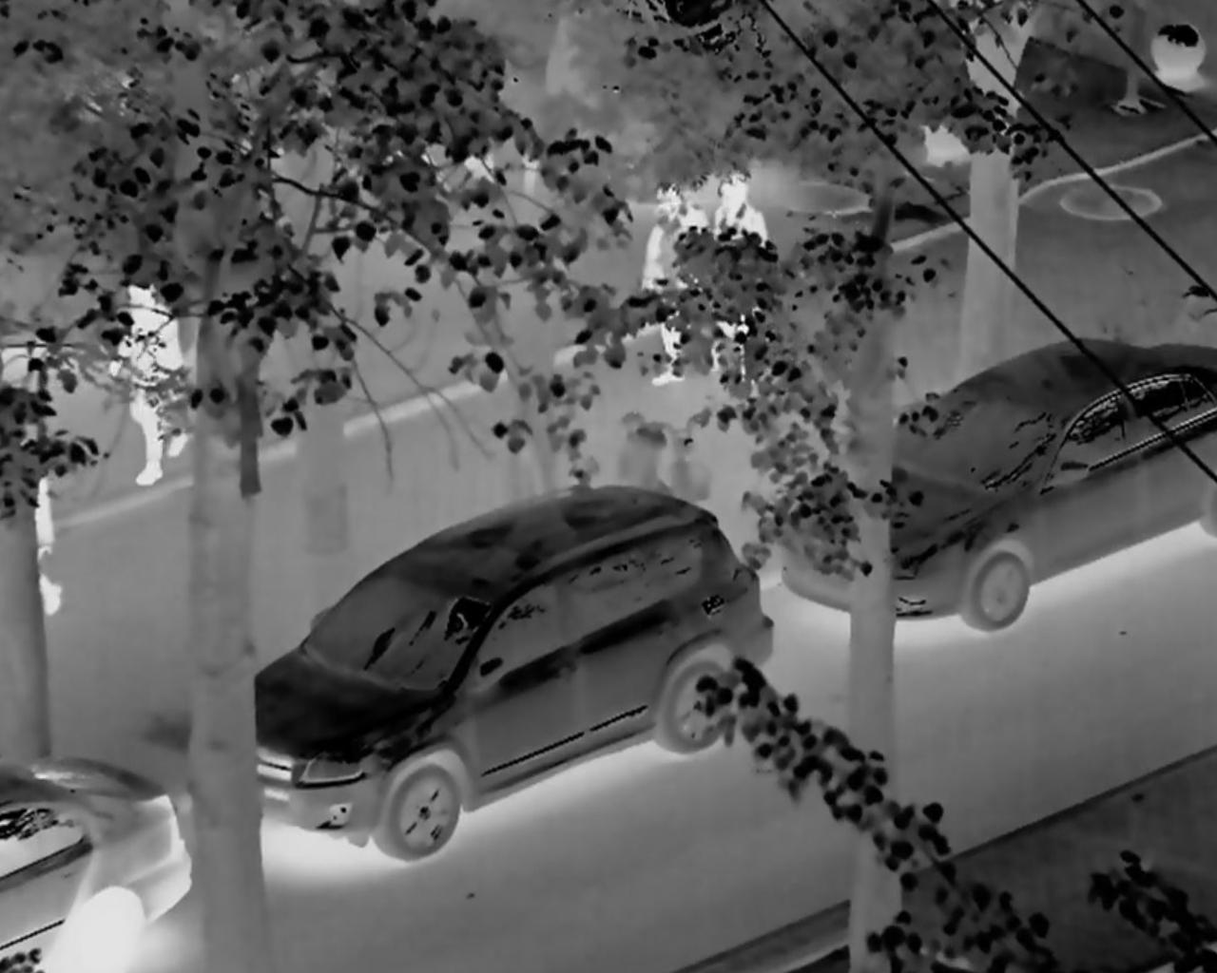person: (692, 157, 798, 378), (627, 159, 718, 389), (113, 265, 197, 493)
